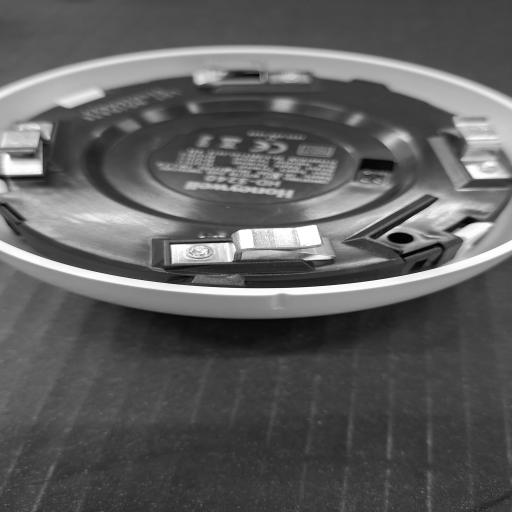yayli: (157, 218, 335, 272)
